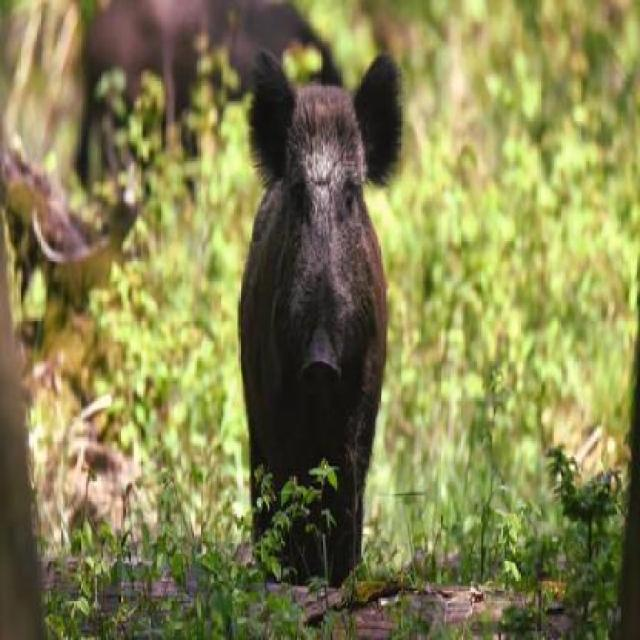wildboar: (237, 51, 409, 582)
